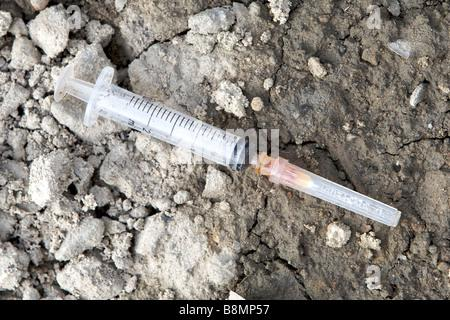Syringe: (54, 65, 400, 226), (54, 64, 246, 169)
